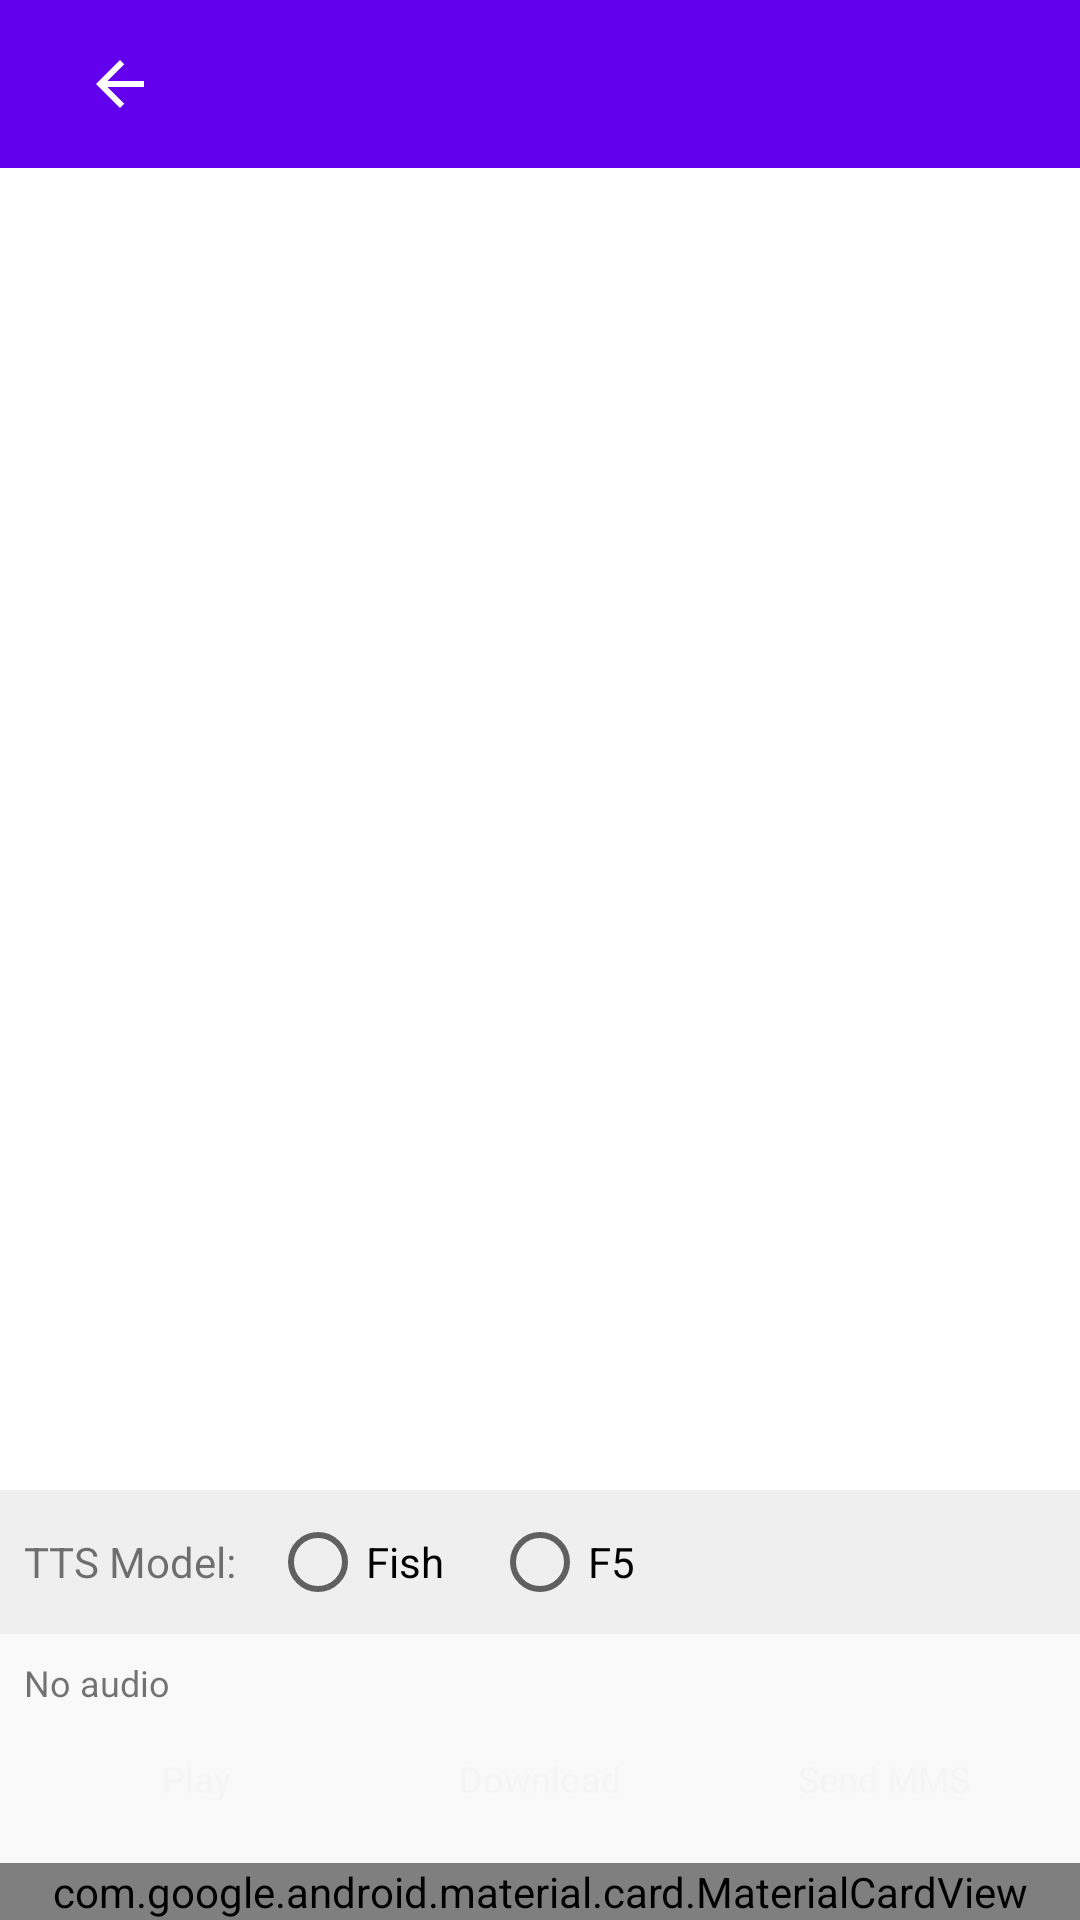

Icons on this 1080 × 1920 Android screen, each with the point to tap as [x,y]:
Back: [120,84]
